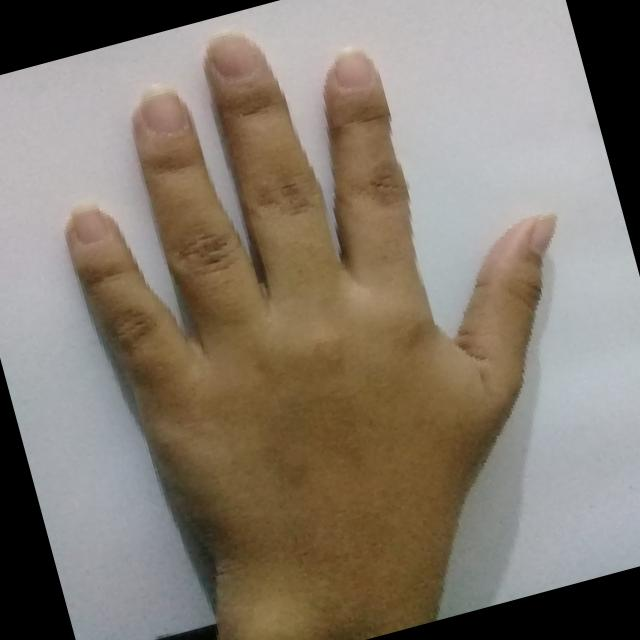Nail: (139, 83, 180, 134), (207, 34, 254, 78), (334, 44, 374, 88), (70, 202, 103, 243), (528, 214, 555, 256)
